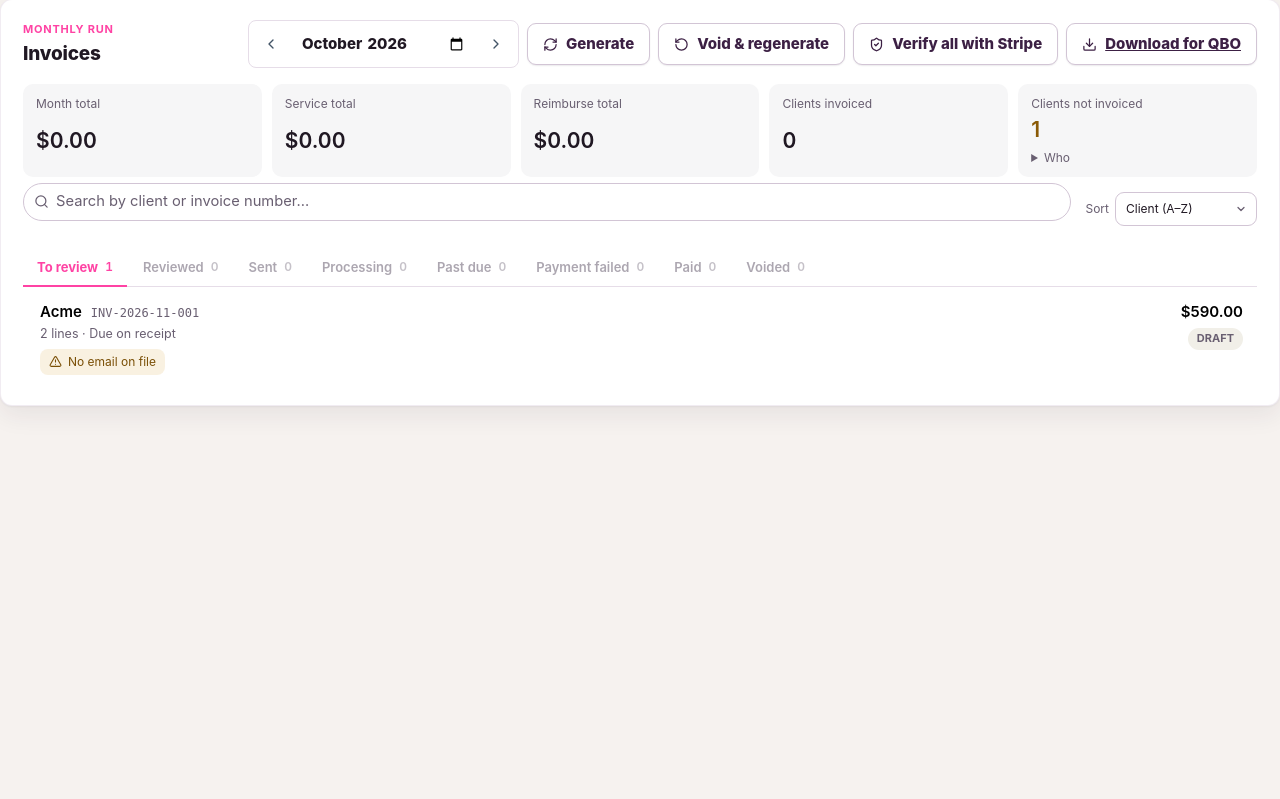
it: InvoiceMonthRun — confirming the covered dates › offers Mark reviewed once nothing is left to answer
Click the text "INV-2026-11-001" at (145,314), box 91,305 -> 199,323
(page scrolled)
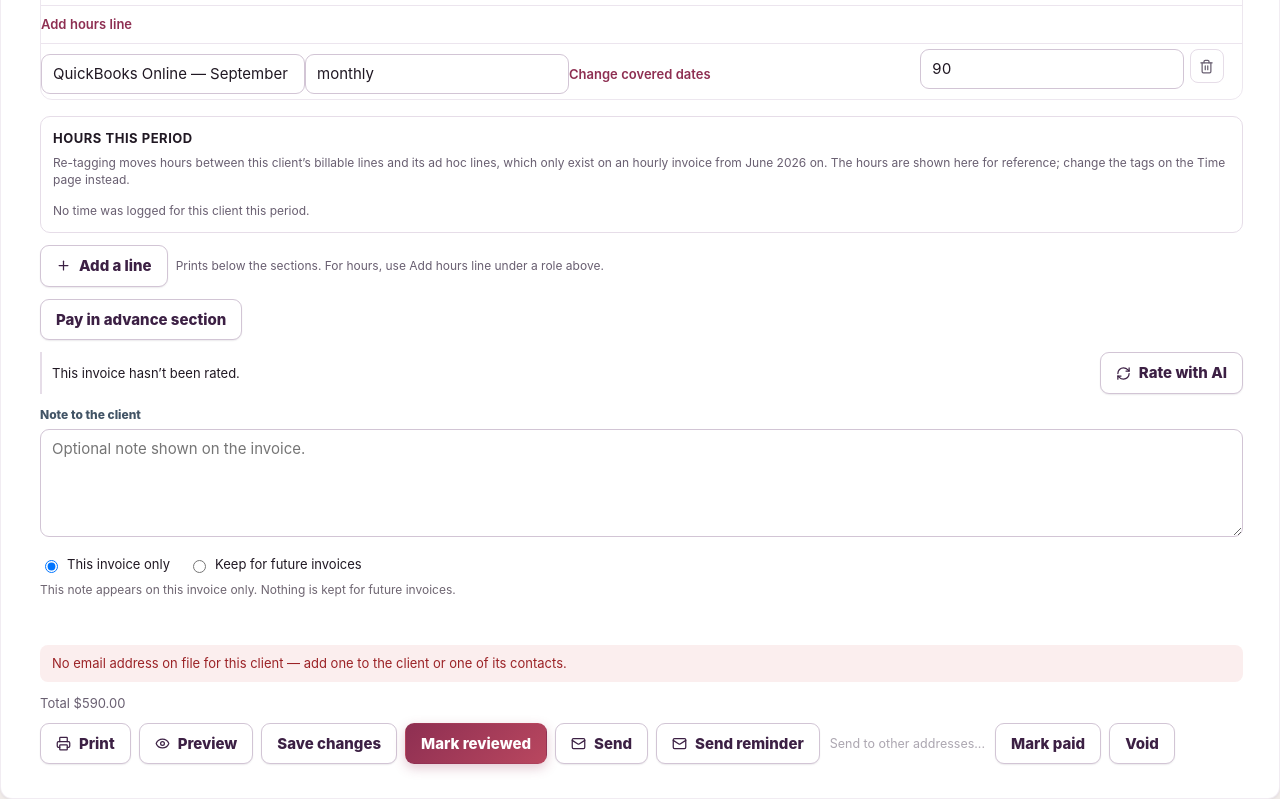
Expected: the button "Mark reviewed" is enabled, 405,723 -> 547,764
